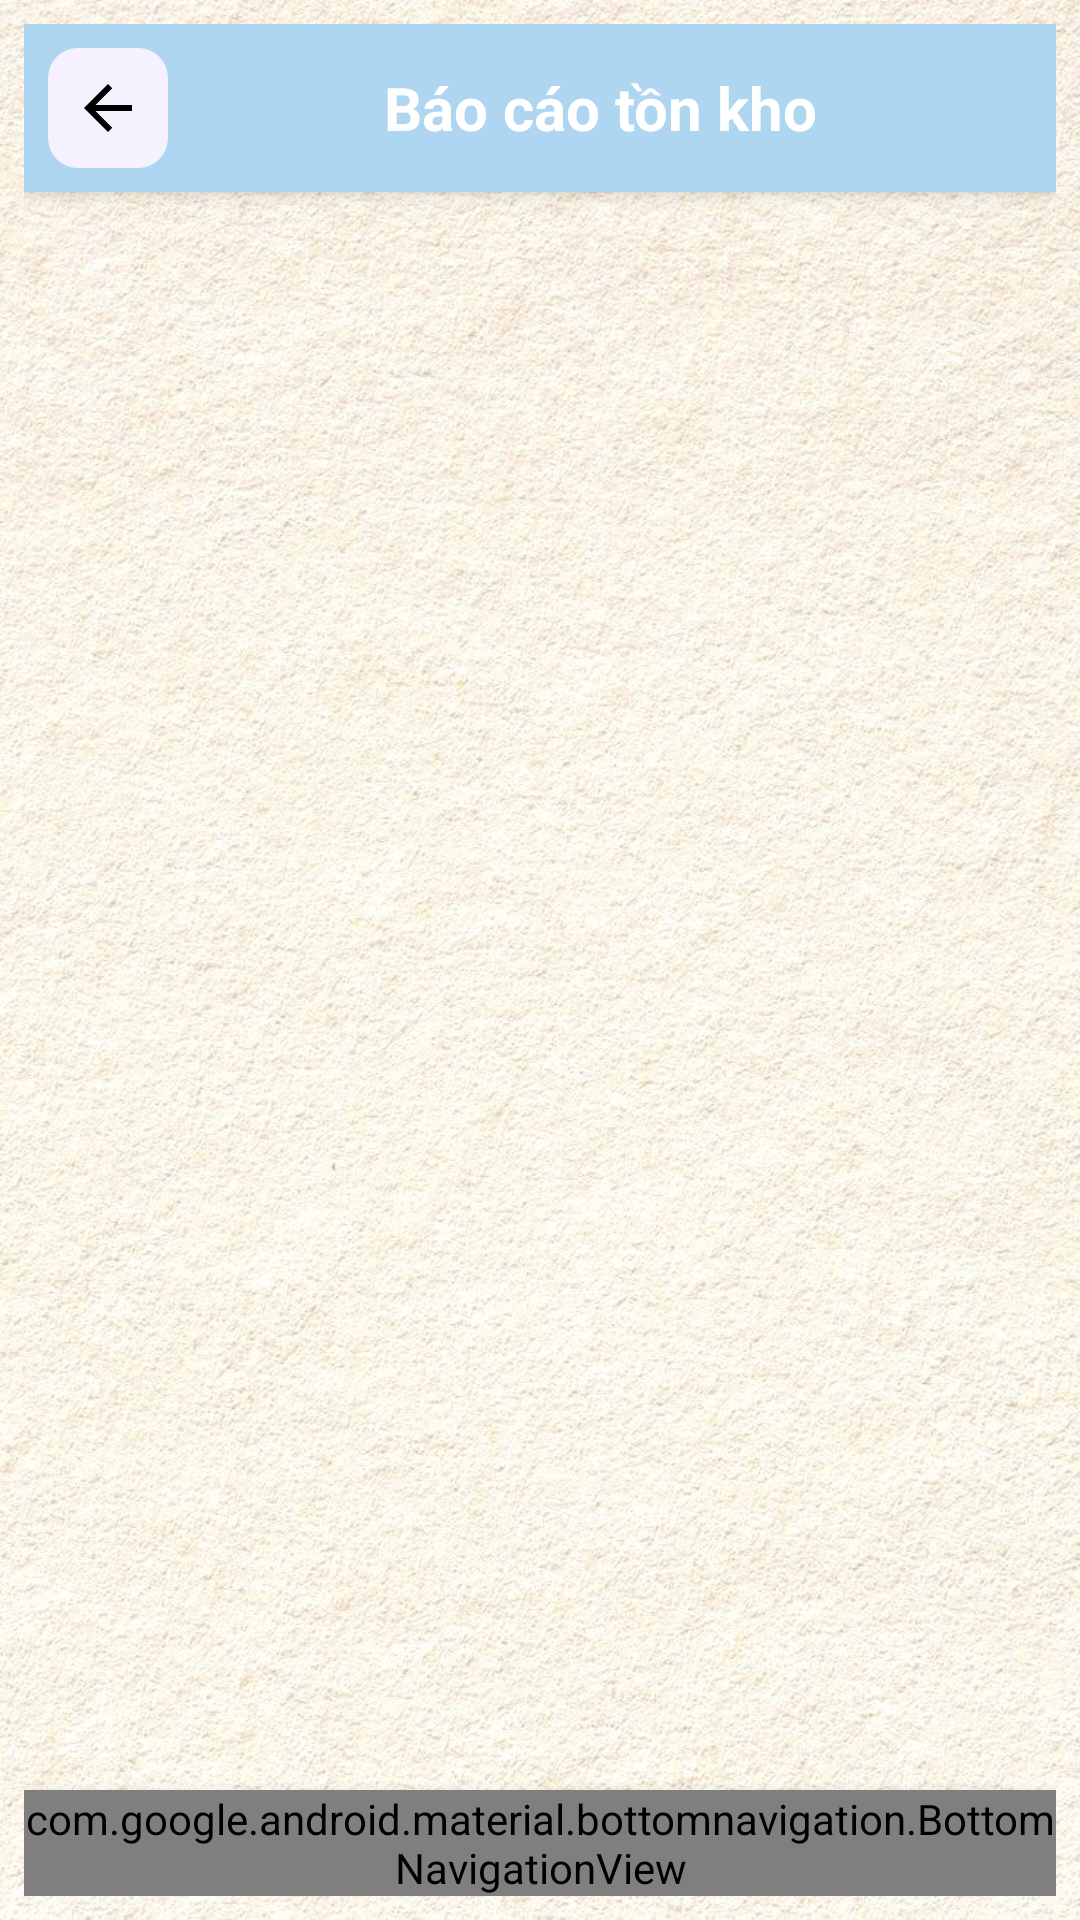

Icons on this 1080 x 1920 Android screen, each with the point to tap as (x=x, y=y):
Quay lại: (x=108, y=108)
